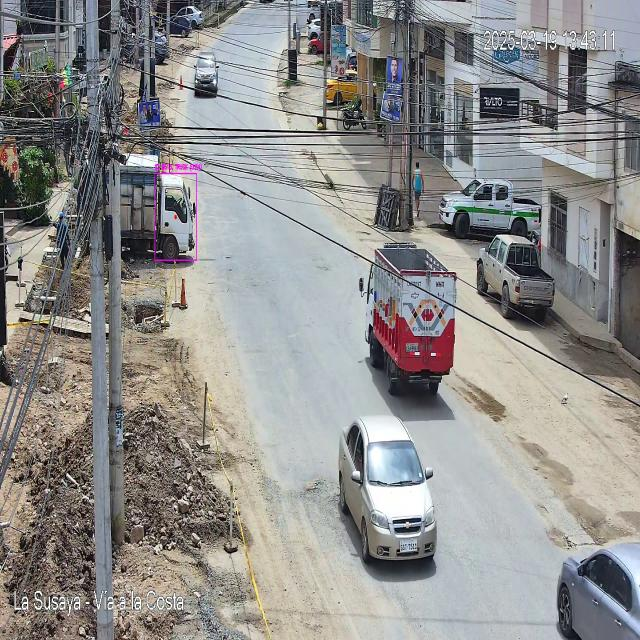SED: (337, 413, 438, 578)
TRUCK: (361, 243, 456, 395)
